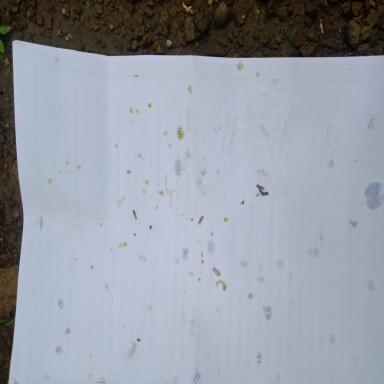pbw: (211, 263, 221, 277), (197, 216, 204, 226), (256, 184, 265, 190), (132, 210, 136, 220)
